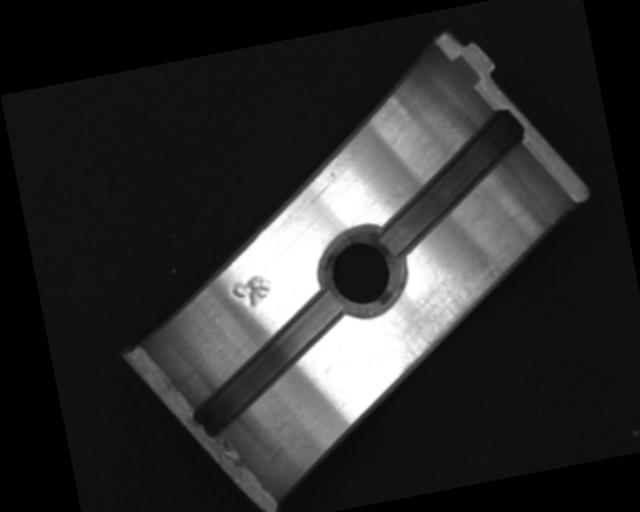bruise: (228, 271, 277, 315)
gap: (177, 287, 360, 439), (361, 110, 543, 259)
hole: (309, 220, 411, 324)
scratch: (378, 250, 528, 378)
